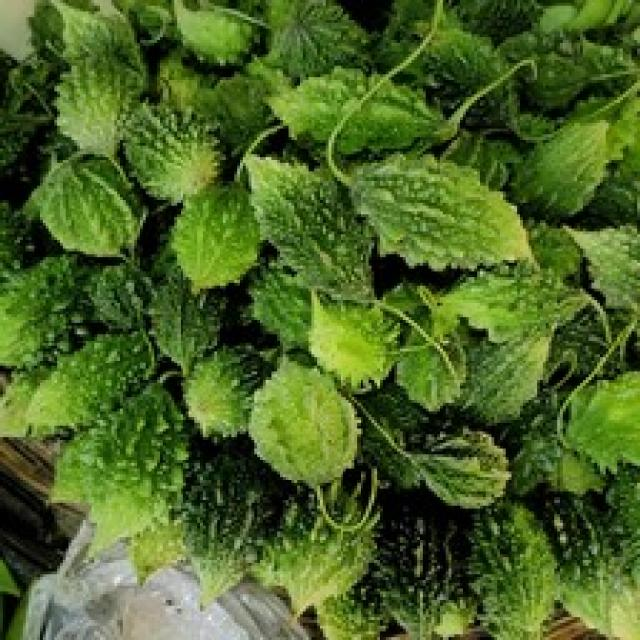organik: (60, 58, 574, 474)
